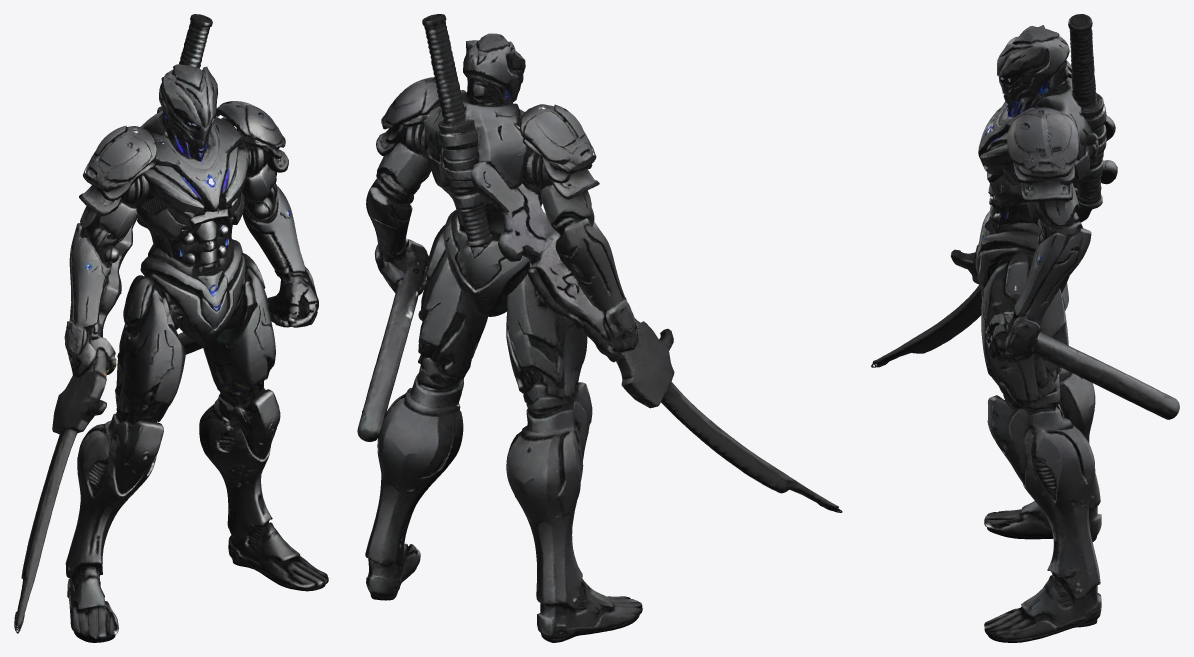
Rendered from robot.glb.
3 renders of one model, left to right at view 1: azimuth 30°, elevation 25°; view 2: azimuth 150°, elevation 25°; view 3: azimuth 270°, elevation 25°, orthographic. The views are drawn at different scales.
Visible parts, largest first — view 1: tmpu6m_ywd6obj; view 2: tmpu6m_ywd6obj; view 3: tmpu6m_ywd6obj.
Part boxes in pixels (box(x1,y1,x2,y2)): tmpu6m_ywd6obj: box(14, 14, 328, 642); tmpu6m_ywd6obj: box(357, 14, 842, 642); tmpu6m_ywd6obj: box(871, 14, 1179, 642).
Bounding box in the file's own units: 0.6978 × 0.9999 × 0.4806.
Materials: 1 (1 with a texture image).
